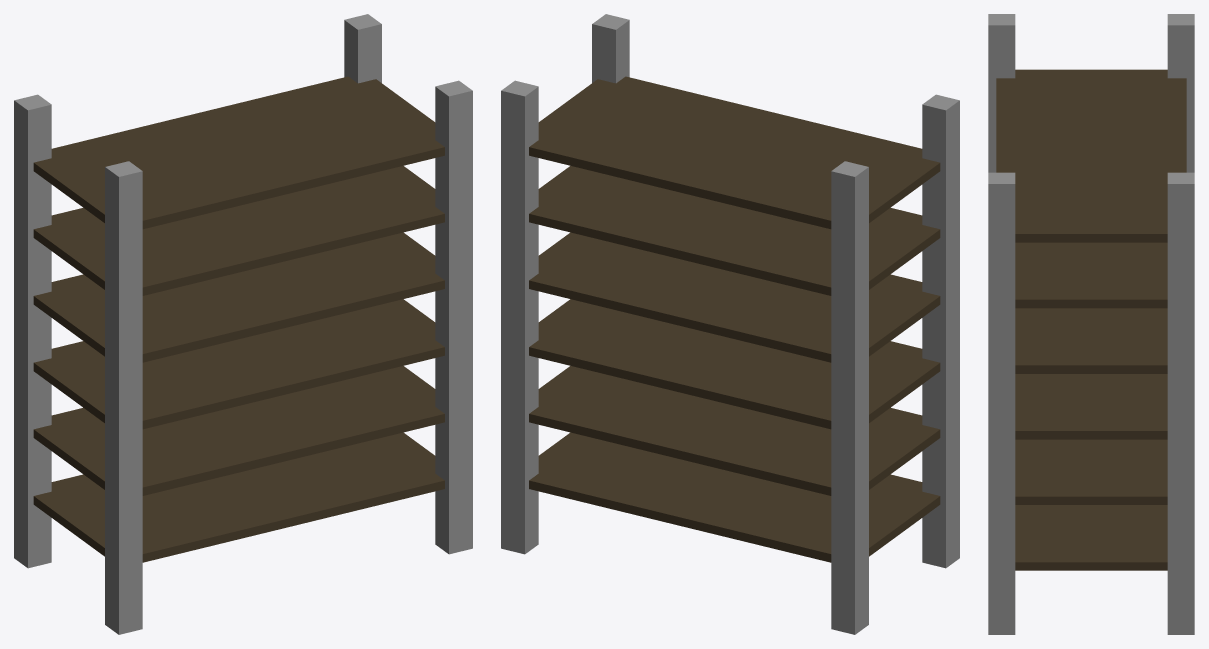
Rendered from Shelf_Short.fbx.
3 renders of one model, left to right at view 1: azimuth 30°, elevation 25°; view 2: azimuth 150°, elevation 25°; view 3: azimuth 270°, elevation 25°, orthographic.
Visible parts, largest first — view 1: Shelves_geo, Tall_Shelf_Legs_geo; view 2: Shelves_geo, Tall_Shelf_Legs_geo; view 3: Shelves_geo, Tall_Shelf_Legs_geo.
Boxes of the visible parts, left/top/right/bottom form: Shelves_geo: left=33, top=76, right=444, bottom=562; Tall_Shelf_Legs_geo: left=14, top=14, right=472, bottom=634; Shelves_geo: left=529, top=76, right=940, bottom=562; Tall_Shelf_Legs_geo: left=501, top=14, right=959, bottom=634; Shelves_geo: left=996, top=69, right=1186, bottom=570; Tall_Shelf_Legs_geo: left=988, top=14, right=1194, bottom=634.
Bounding box in the file's own units: 233 × 289 × 120.
